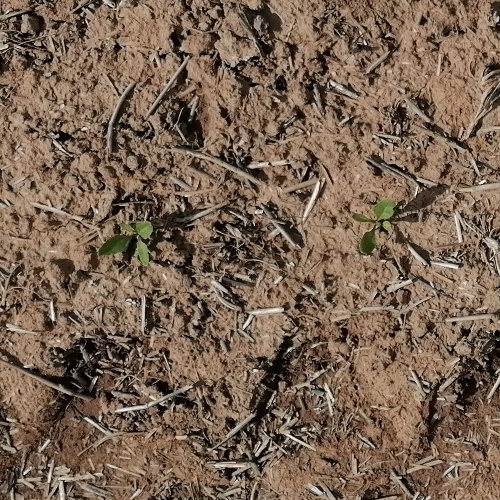beet: (98, 218, 153, 265), (353, 199, 395, 256)
